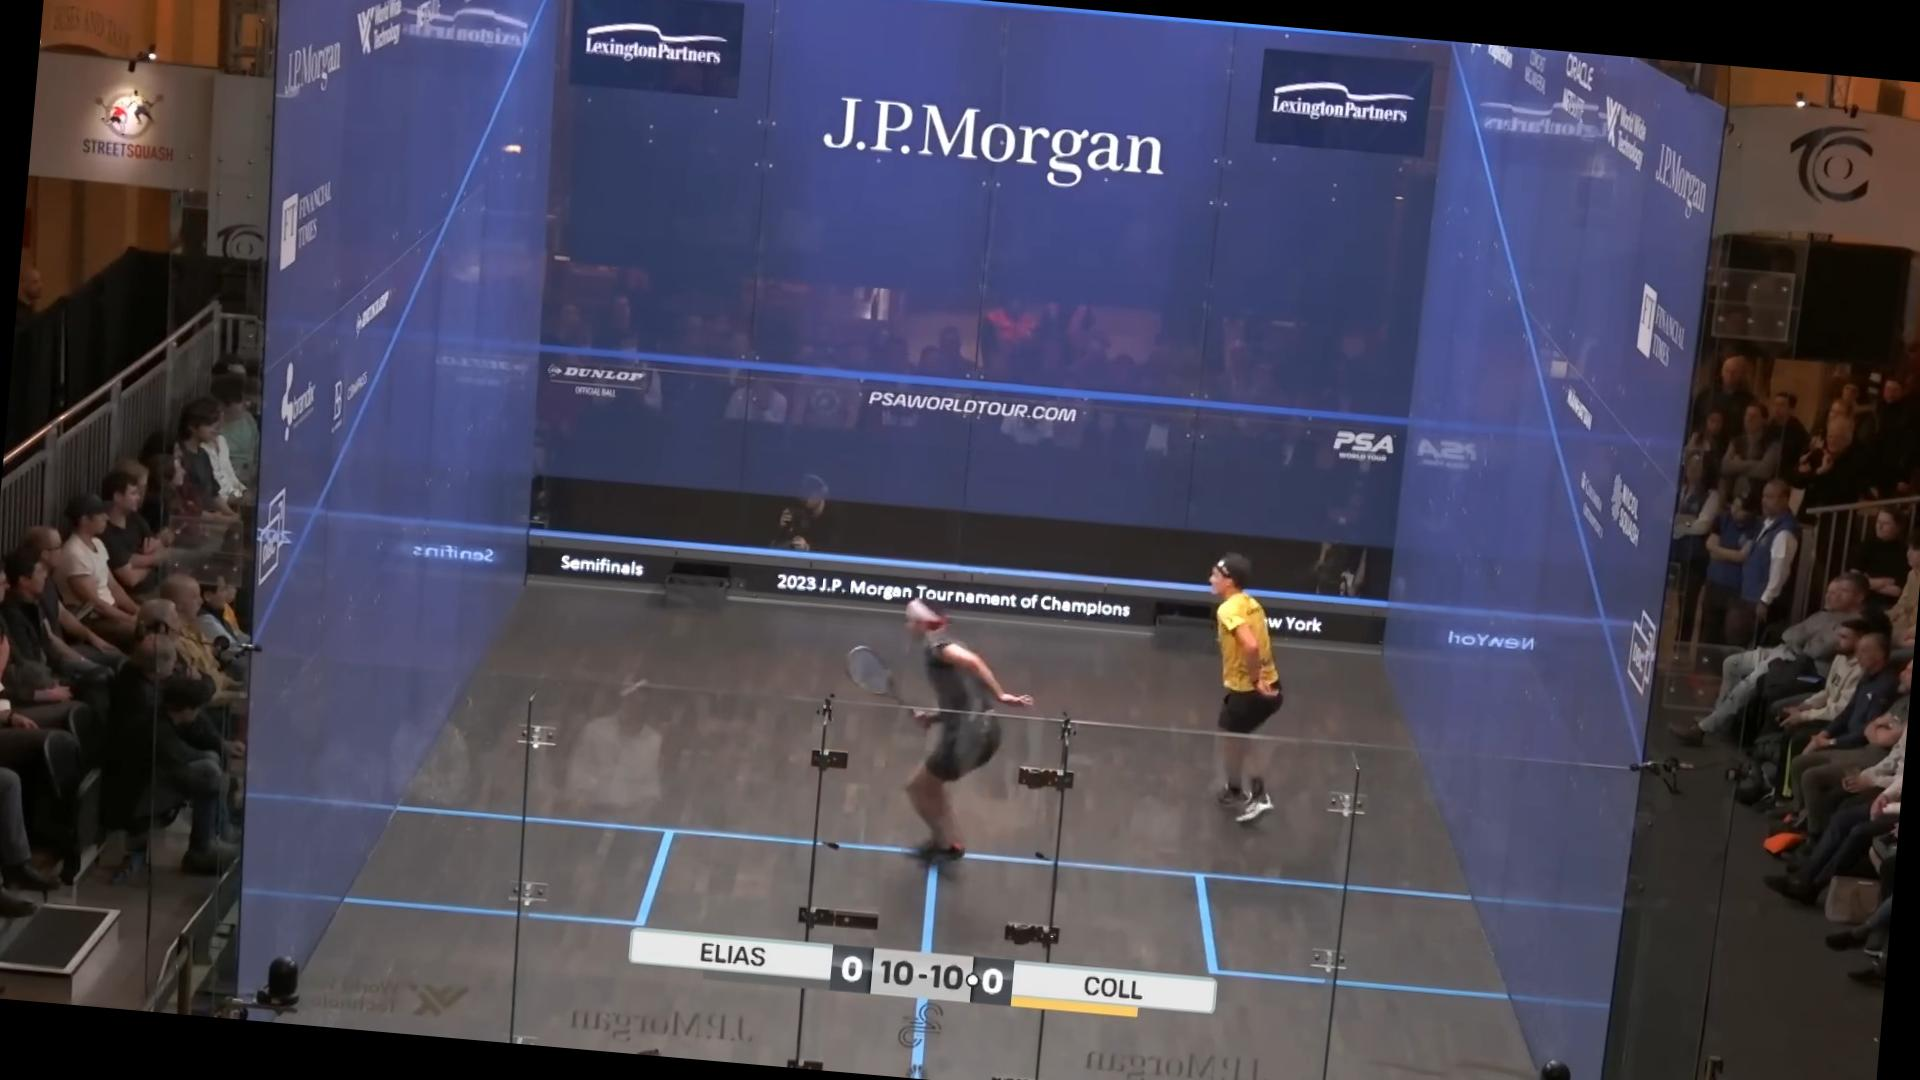Racket: (827, 636, 924, 720)
